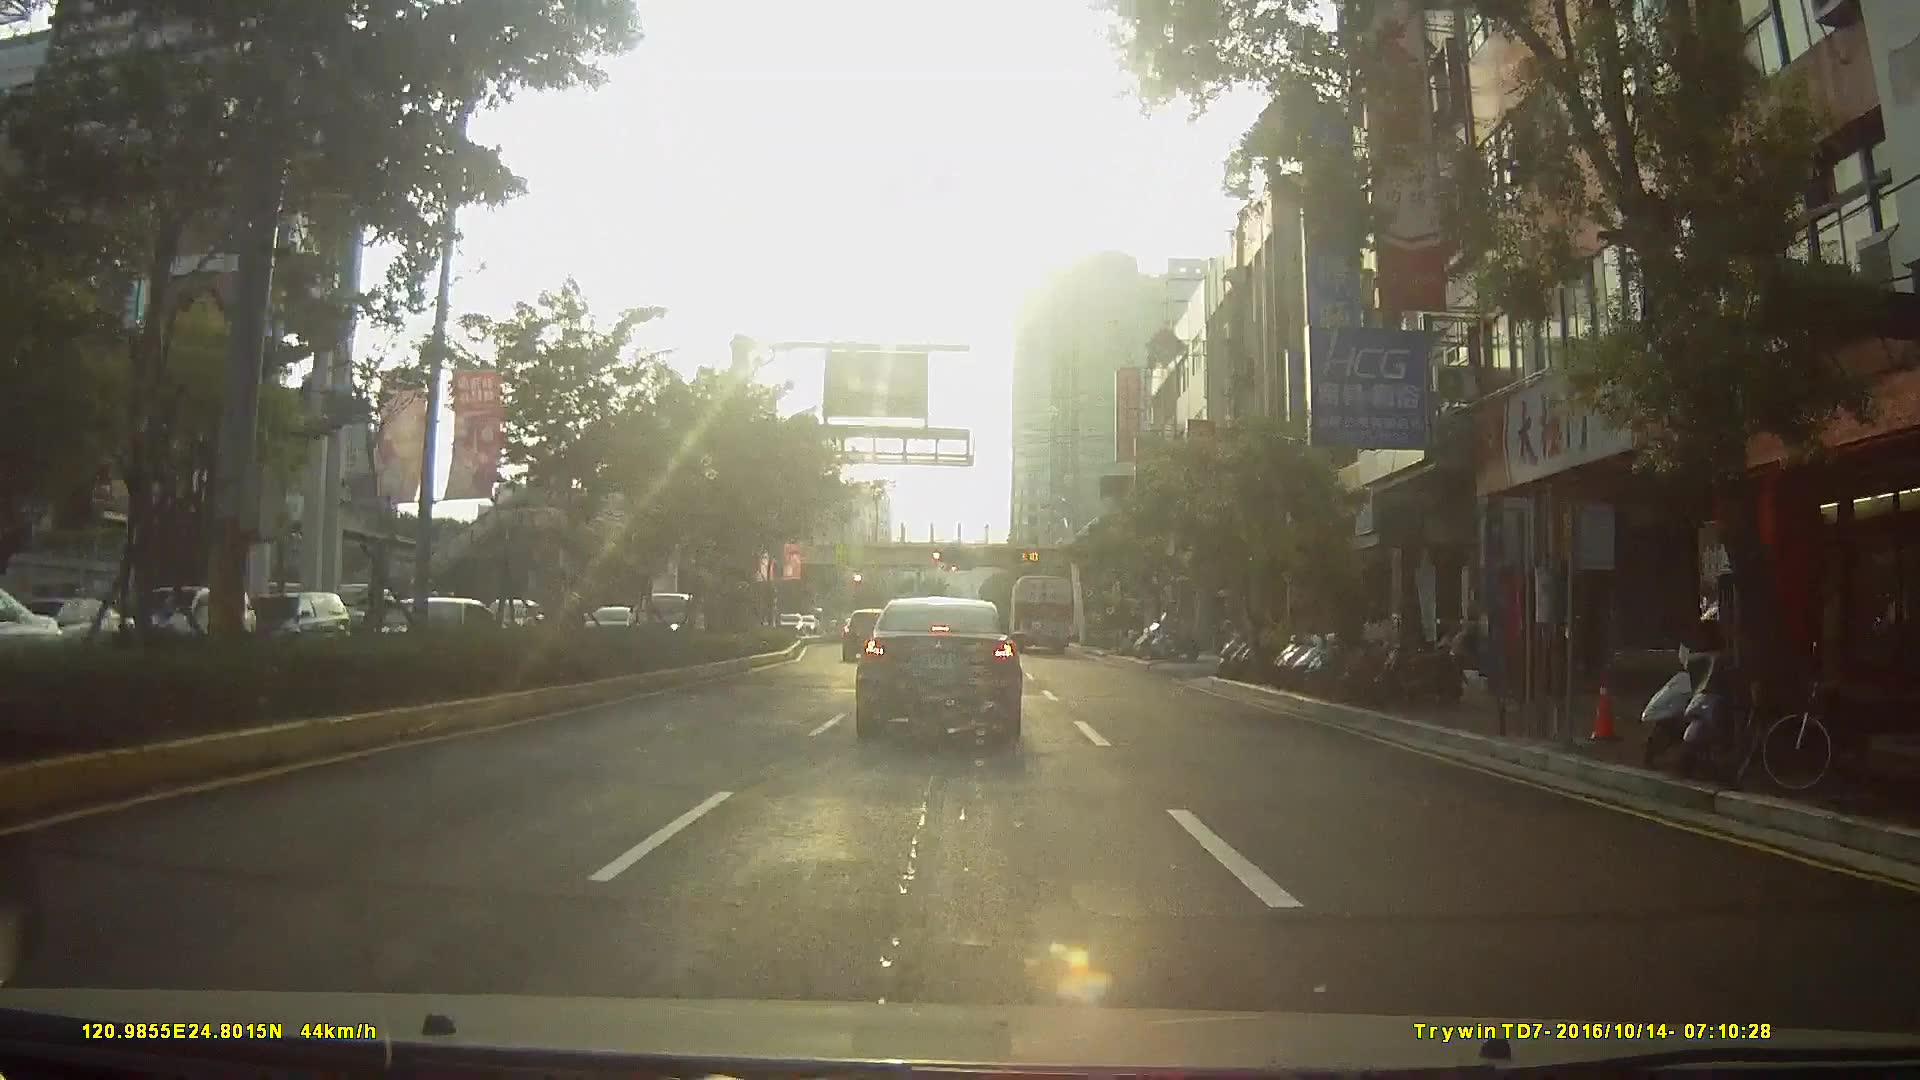vehicle: (855, 596, 1023, 744), (125, 582, 249, 655), (1, 582, 69, 695), (236, 589, 345, 654), (1007, 571, 1077, 653), (840, 607, 894, 659)
